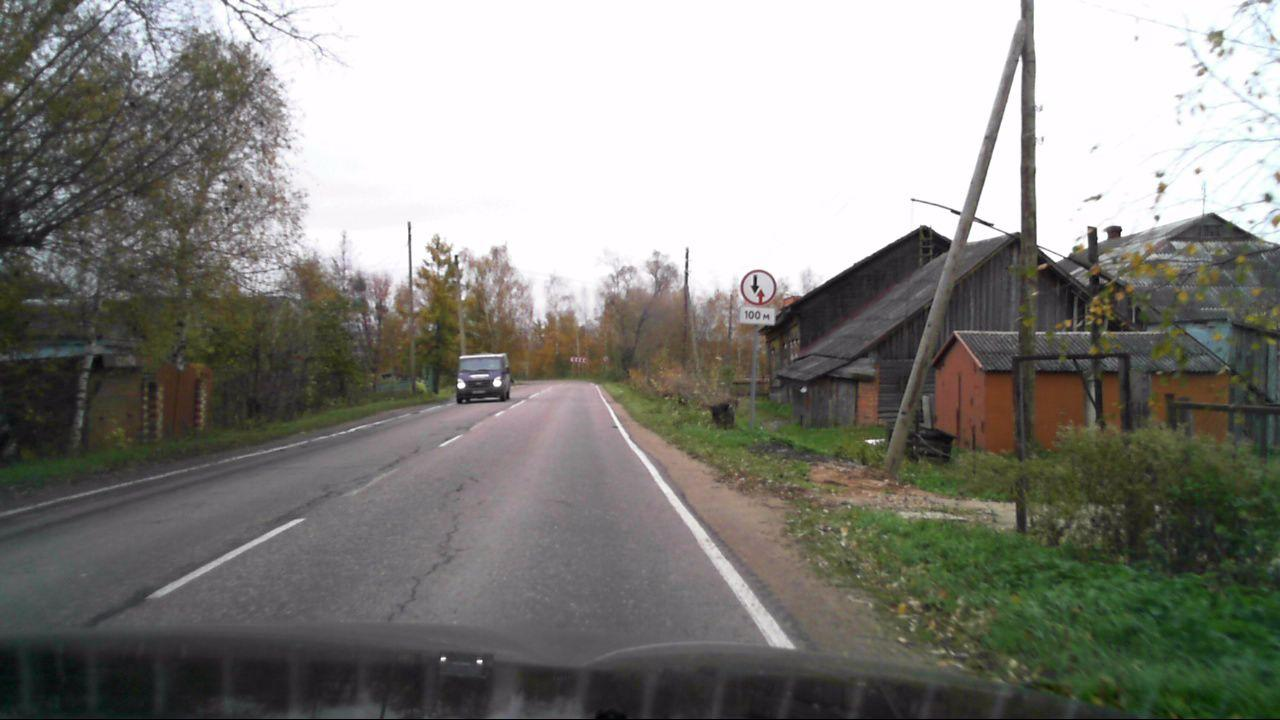2_6: (740, 268, 777, 304)
8_1_1: (740, 306, 780, 327)
